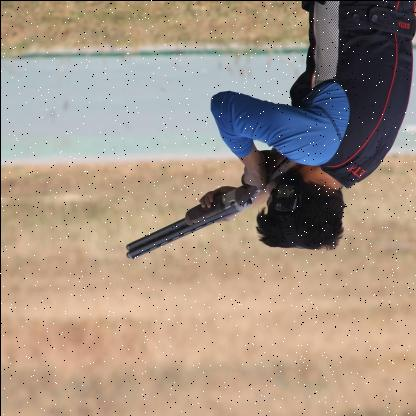rifle: (122, 127, 310, 261)
